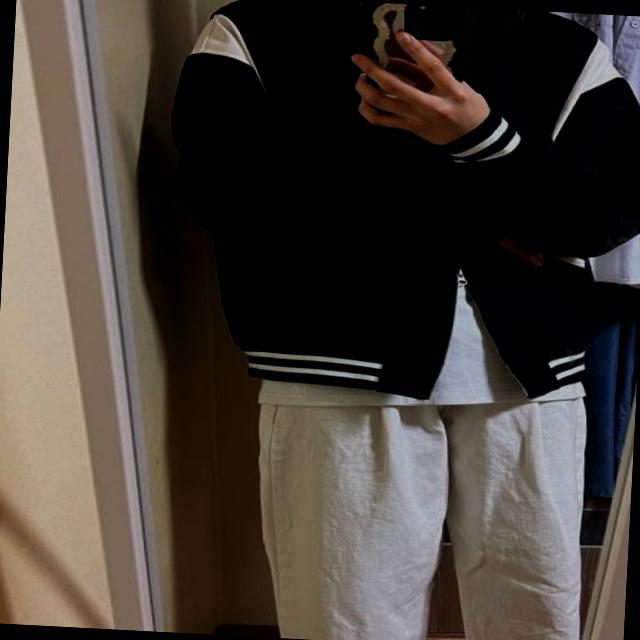cottonpants: (244, 365, 596, 640)
jacket: (149, 0, 640, 411)
